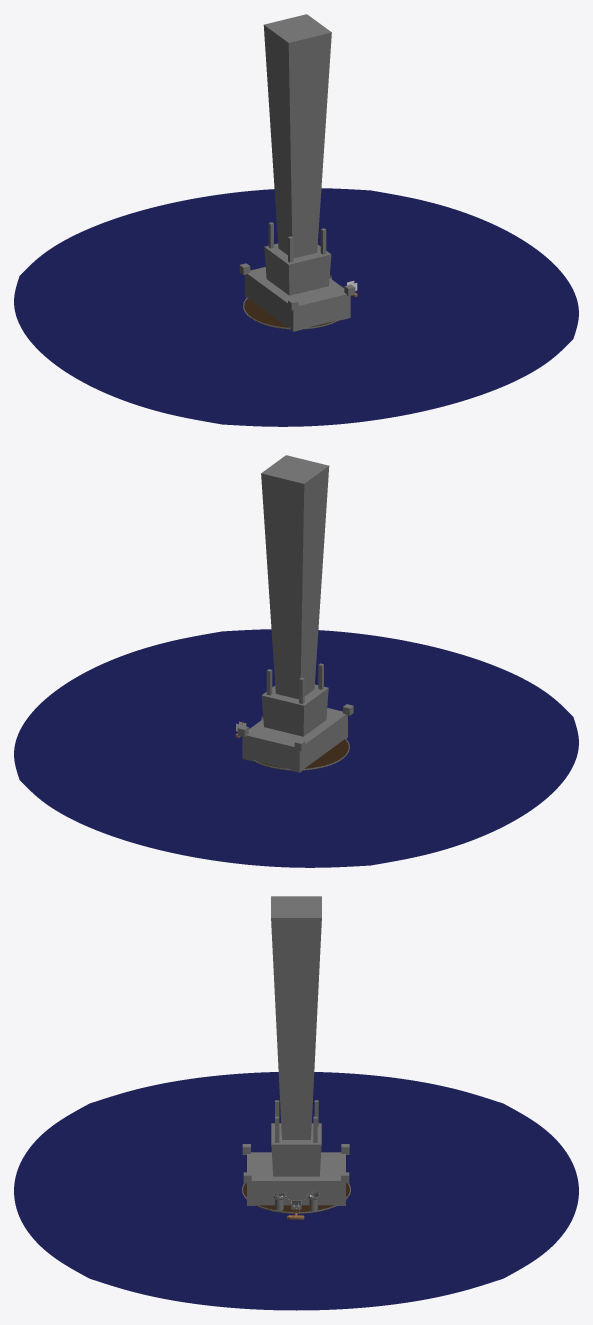
The model's file is level1.glb.
3 views of the same model, one above another, from view 1: azimuth 30°, elevation 25°; view 2: azimuth 150°, elevation 25°; view 3: azimuth 270°, elevation 25° (orthographic). The views are drawn at different scales.
Visible parts, largest first — view 1: Plane, big-col.002, big-col, big-col.001, island-col; view 2: Plane, big-col.002, big-col, big-col.001, island-col; view 3: Plane, big-col.002, big-col, big-col.001.
Part boxes in pixels (x1,y1,x2,y2): Plane: (14,188,578,426); big-col.002: (263,14,331,258); big-col: (245,267,350,331); big-col.001: (264,243,331,295); island-col: (244,298,333,329); Plane: (14,629,578,867); big-col.002: (261,455,329,699); big-col: (242,708,347,772); big-col.001: (261,684,328,736); island-col: (255,739,348,770); Plane: (14,1072,578,1310); big-col.002: (271,896,321,1139); big-col: (247,1152,345,1205); big-col.001: (271,1123,321,1176).
Size of what is drawn, in the model's own units: 1107 by 635 by 1107.
